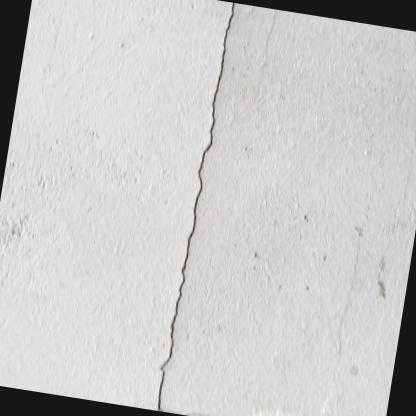crack: (157, 1, 233, 411)
